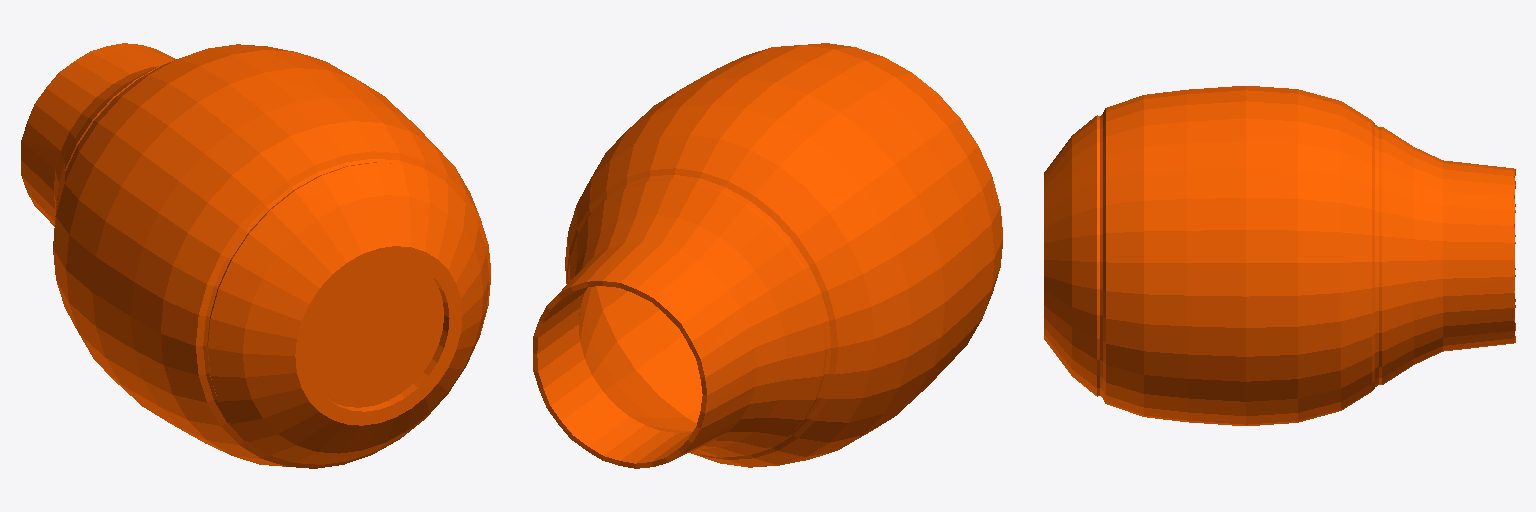
The robot description file, URDF, robot "vase":
<?xml version="1.0" encoding="UTF-8"?>
<robot name="vase">
  <material name="color">
    <color rgba="1.0 0.42 0.04 1.0"/>
  </material>

  <link name="vase_link">
    <visual>
      <origin xyz="0 0 0" rpy="0 0 0"/>
      <geometry>
        <mesh filename="vase_visual.obj" scale="1 1 1"/>
      </geometry>
      <material name="color"/>
    </visual>

    <collision>
      <origin xyz="0 0 0" rpy="0 0 0"/>
      <geometry>
        <mesh filename="vase_visual.obj" scale="1 1 1"/>
      </geometry>
    </collision>

    
  </link>
</robot>

--- Facts derived from the render (not from the file) ---
The picture shows the robot from 3 angles, left to right: view 1: azimuth 30°, elevation 25°; view 2: azimuth 150°, elevation 25°; view 3: azimuth 270°, elevation 25°; orthographic projection.
Robot: vase — 1 links, 0 joints (none); root link vase_link; default pose: all joints at 0.
Links seen in each view (by area): view 1: vase_link; view 2: vase_link; view 3: vase_link.
Link boxes in pixels (x1,y1,x2,y2): vase_link: (21, 43, 490, 468); vase_link: (533, 43, 1002, 468); vase_link: (1044, 86, 1515, 425).
Size in the robot's own frame: 0.1562 by 0.2156 by 0.1562 metres.
1 mesh visuals loaded from 1 distinct referenced files (1 OBJ).